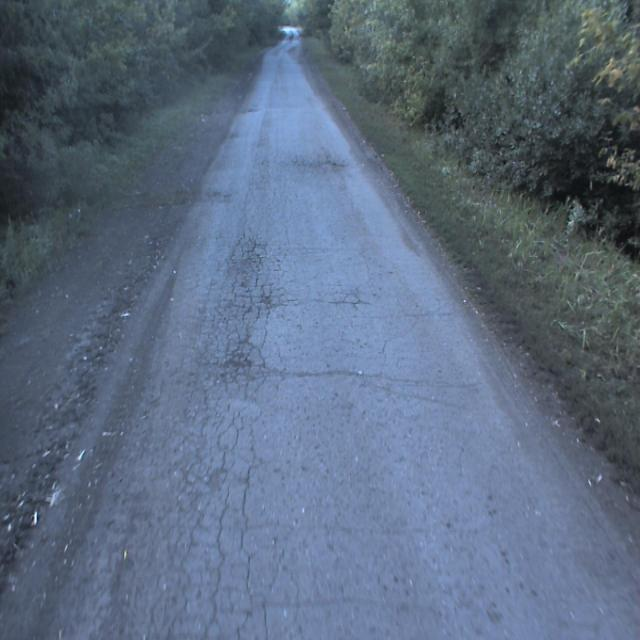road: (49, 25, 639, 639)
